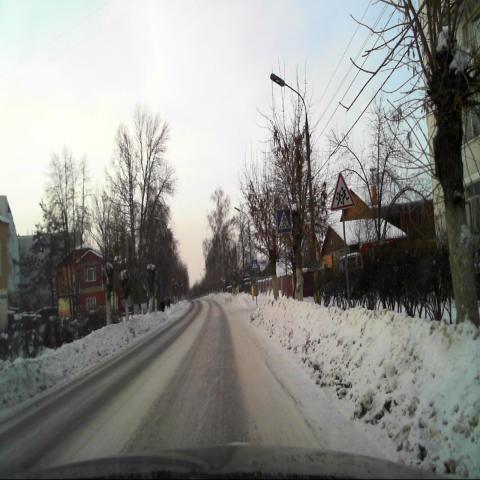1_23: (330, 172, 354, 212)
